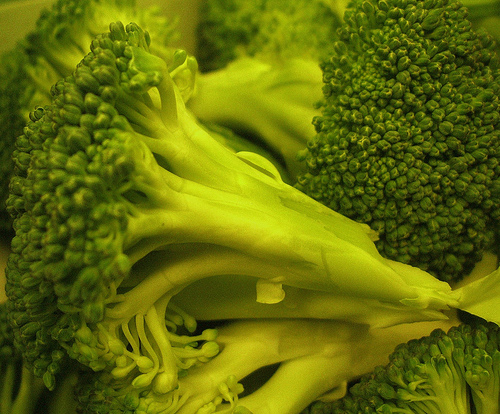broccoli: (3, 22, 471, 391), (291, 0, 498, 284)
